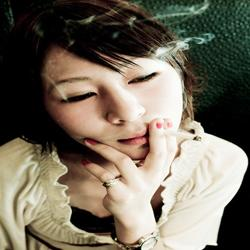cigarro: (167, 122, 209, 147)
fumador: (16, 23, 229, 228)
